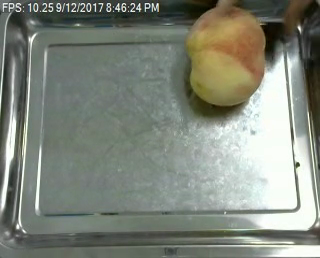Peach: (185, 3, 265, 106)
